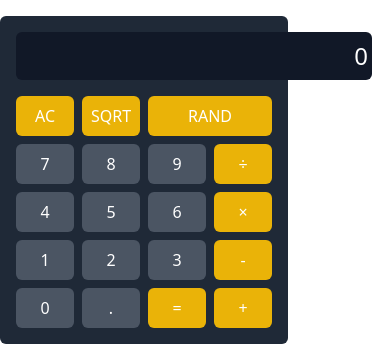
Test: Calculator › should update display value when a button is clicked
The width and height of the screenshot is (389, 361).
What coordinates should you click on to do the following:
click the button "7"
I would click on:
 (45, 164)
Its box is 16,144 -> 74,184.
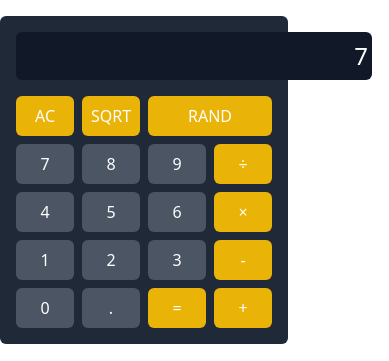
Now the field showing "7" is shown, box 16,32 -> 372,80
